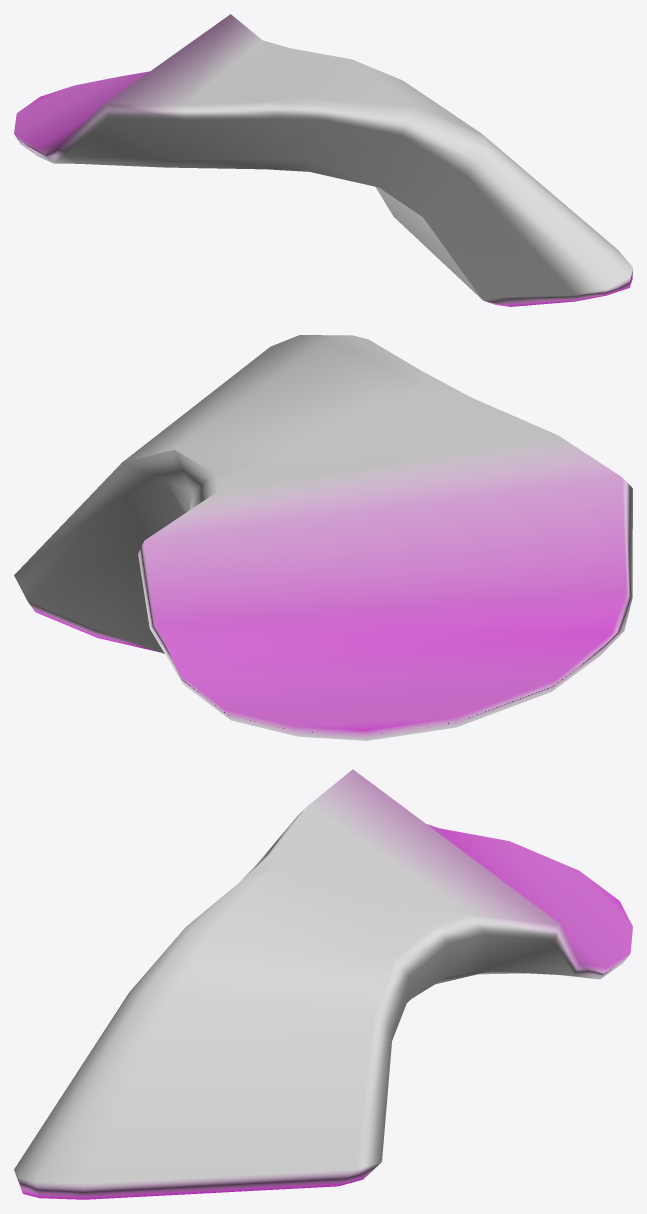
File: Car_MercedesBenz_AMGGT_2015_MirrorBaseR_SetGTR.fbx
The picture shows the model from 3 angles, top to bottom: view 1: azimuth 30°, elevation 25°; view 2: azimuth 150°, elevation 25°; view 3: azimuth 270°, elevation 25°; orthographic projection. The views are drawn at different scales.
Visible parts, largest first — view 1: MirrorBaseR 6; view 2: MirrorBaseR 6; view 3: MirrorBaseR 6.
Part boxes in pixels (x1=…): MirrorBaseR 6: x1=14, y1=14, x2=632, y2=306; MirrorBaseR 6: x1=14, y1=335, x2=632, y2=740; MirrorBaseR 6: x1=14, y1=769, x2=632, y2=1199.
Bounding box in the file's own units: 0.1347 × 0.0606 × 0.1439.
